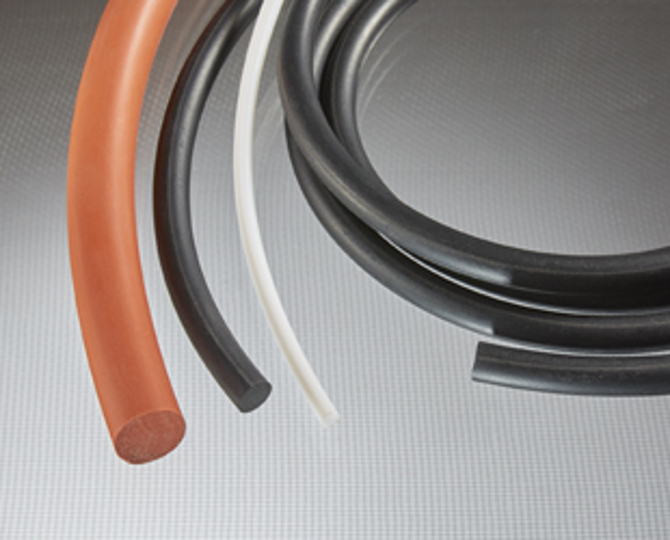Nonrec_Tangler: (48, 1, 643, 465)
